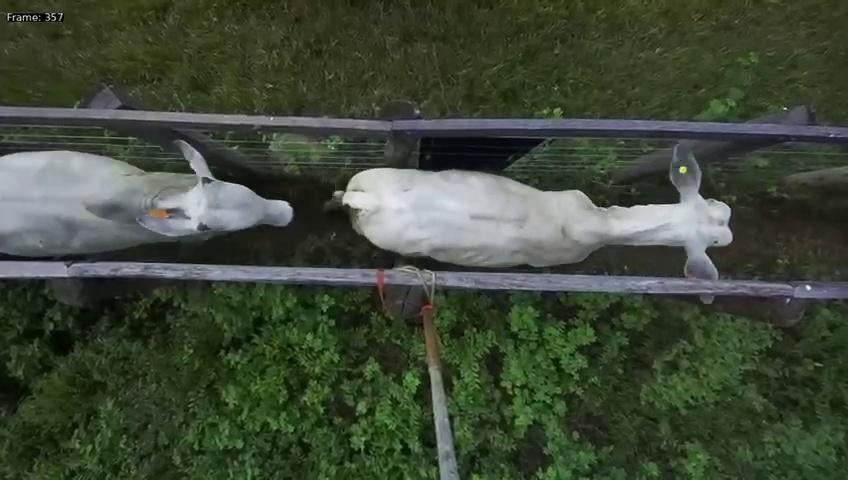cattle: (321, 135, 734, 279), (1, 135, 297, 260)
